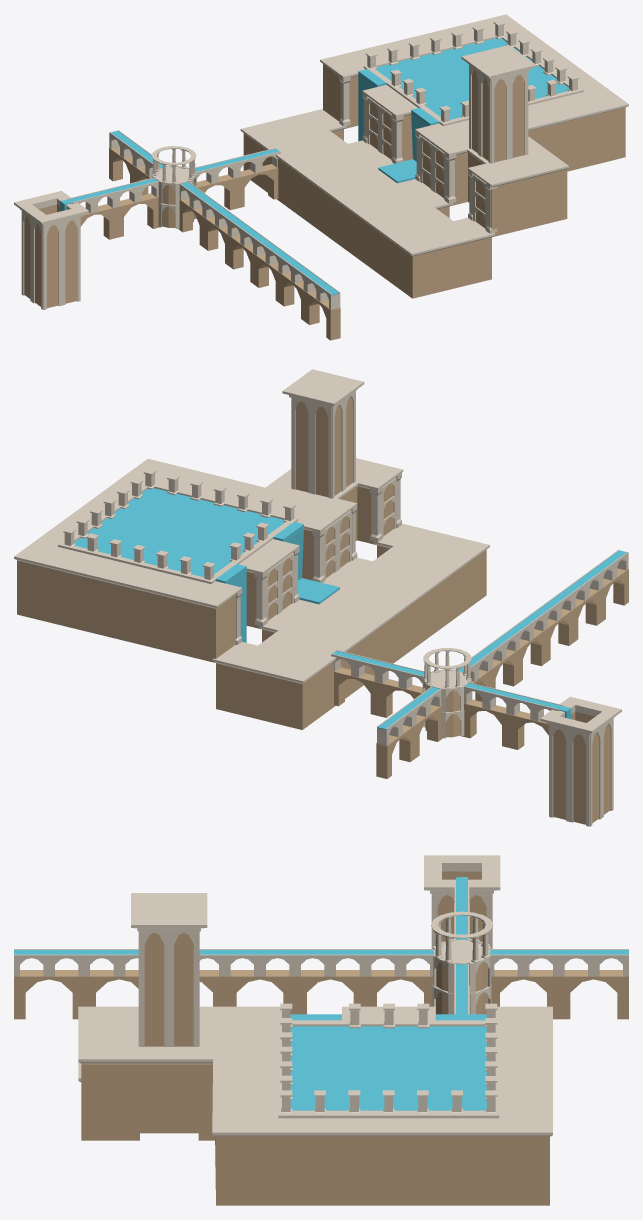
File: aqua.fbx
3 views of the same model, one above another, from view 1: azimuth 30°, elevation 25°; view 2: azimuth 150°, elevation 25°; view 3: azimuth 270°, elevation 25° (orthographic). The views are drawn at different scales.
Visible parts, largest first — view 1: assets, walls, walkable; view 2: assets, walls, walkable; view 3: assets, walls, walkable.
Boxes of the visible parts, x1,y1,x2,y2 form: assets: (21, 14, 628, 340); walls: (152, 20, 625, 298); walkable: (14, 38, 568, 256); assets: (14, 391, 628, 826); walls: (17, 469, 486, 729); walkable: (74, 369, 621, 734); assets: (14, 871, 628, 1136); walls: (81, 916, 549, 1205); walkable: (78, 855, 628, 1110).
Bounding box in the file's own units: 27958 × 12180 × 21000.
